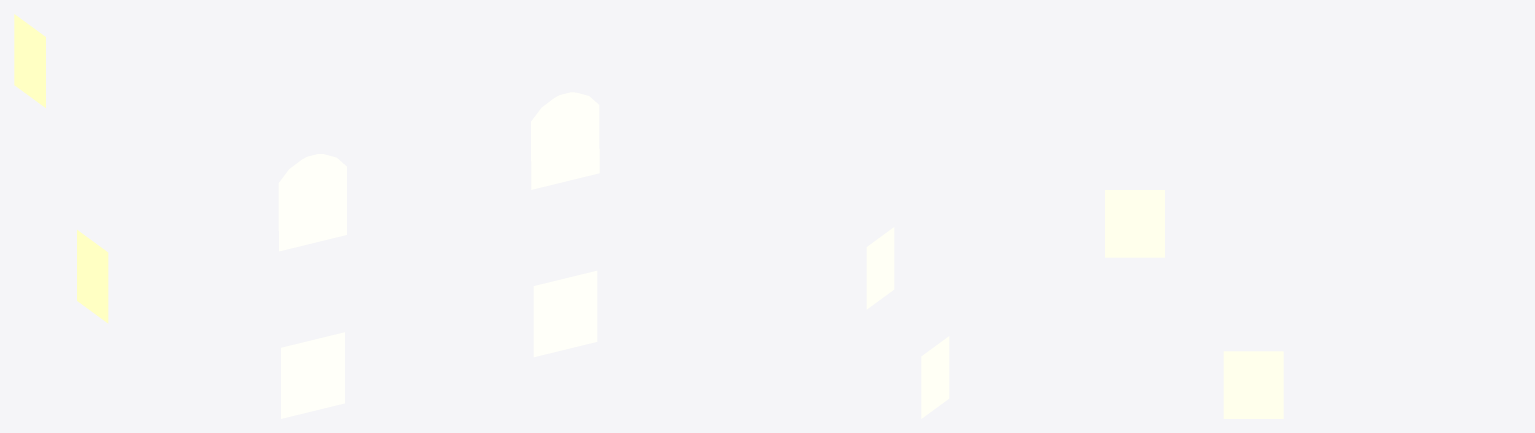
Rendered from bv_kh_d_lit.glb.
The picture shows the model from 3 angles, left to right: view 1: azimuth 30°, elevation 25°; view 2: azimuth 150°, elevation 25°; view 3: azimuth 270°, elevation 25°; orthographic projection. The views are drawn at different scales.
Visible parts, largest first — view 1: lit; view 2: lit; view 3: lit.
Boxes of the visible parts, bbox=[...] form: lit: bbox=[14, 14, 599, 418]; lit: bbox=[866, 227, 949, 418]; lit: bbox=[1105, 190, 1283, 418].
Size of the model in its own units: 7.03 by 4.52 by 7.51.
